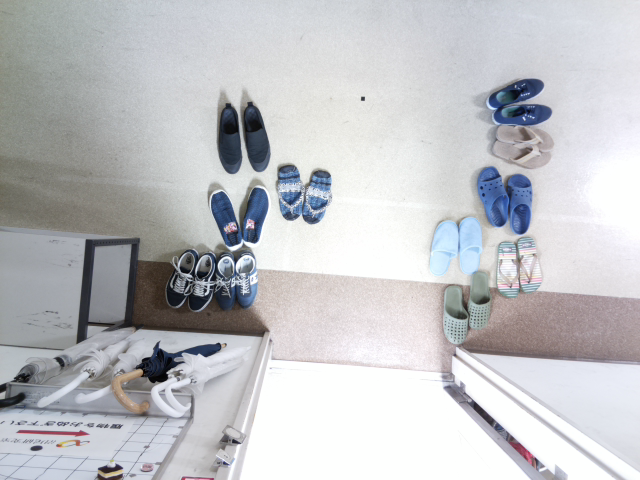Copy of Copy of Copy of Copy of Copy of Copy of Copy of Copy of Copy of shoes: (214, 251, 237, 312)
Copy of Copy of Copy of Copy of Copy of Copy of Copy of Copy of shoes: (234, 250, 259, 309)
Copy of Copy of Copy of Copy of Copy of Copy of Copy of shoes: (187, 251, 216, 313)
Copy of Copy of Copy of Copy of Copy of Copy of shoes: (162, 247, 198, 309)
Copy of Copy of Copy of Copy of Copy of sandal: (495, 122, 554, 151)
Copy of Copy of Copy of Copy of Copy of shoes: (492, 103, 553, 126)
Copy of Copy of Copy of Copy of Copy of slipper: (506, 173, 533, 234)
Copy of Copy of Copy of Copy of sandal: (491, 138, 552, 168)
Copy of Copy of Copy of Copy of shoes: (486, 79, 545, 110)
Copy of Copy of Copy of Copy of slipper: (477, 165, 509, 229)
Copy of Copy of Copy of sandal: (516, 235, 543, 293)
Copy of Copy of Copy of shoes: (208, 188, 241, 252)
Copy of Copy of Copy of slipper: (466, 268, 493, 329)
Copy of Copy of sandal: (496, 240, 520, 298)
Copy of Copy of shoes: (242, 184, 269, 247)
Copy of Copy of slipper: (441, 283, 469, 345)
Copy of sandal: (302, 168, 332, 224)
Copy of shoes: (243, 99, 270, 171)
Copy of slipper: (457, 215, 482, 273)
sandal: (275, 163, 303, 221)
shoes: (217, 101, 242, 174)
slipper: (429, 218, 459, 277)
